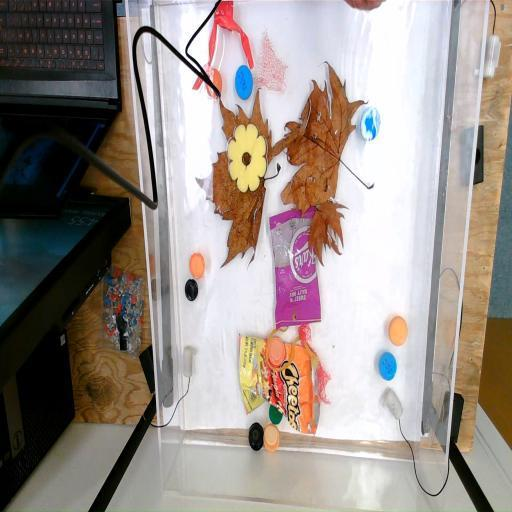Bottle Cap: (376, 348, 399, 382), (360, 104, 381, 141), (234, 66, 254, 104), (388, 313, 410, 347), (204, 68, 224, 98), (246, 422, 265, 450), (268, 334, 284, 367), (264, 423, 280, 456), (188, 252, 206, 280), (182, 278, 200, 302), (268, 400, 284, 426)
Cone Cap: (206, 0, 242, 33)
Leaf: (194, 87, 284, 274), (282, 58, 379, 218), (297, 198, 349, 256)
Netting: (294, 324, 346, 408), (252, 26, 288, 96)
Plastic Bag: (237, 332, 323, 438), (269, 204, 325, 324)
Plastic Strand: (189, 0, 254, 93), (262, 320, 324, 380)
Sponge: (222, 121, 270, 193)
